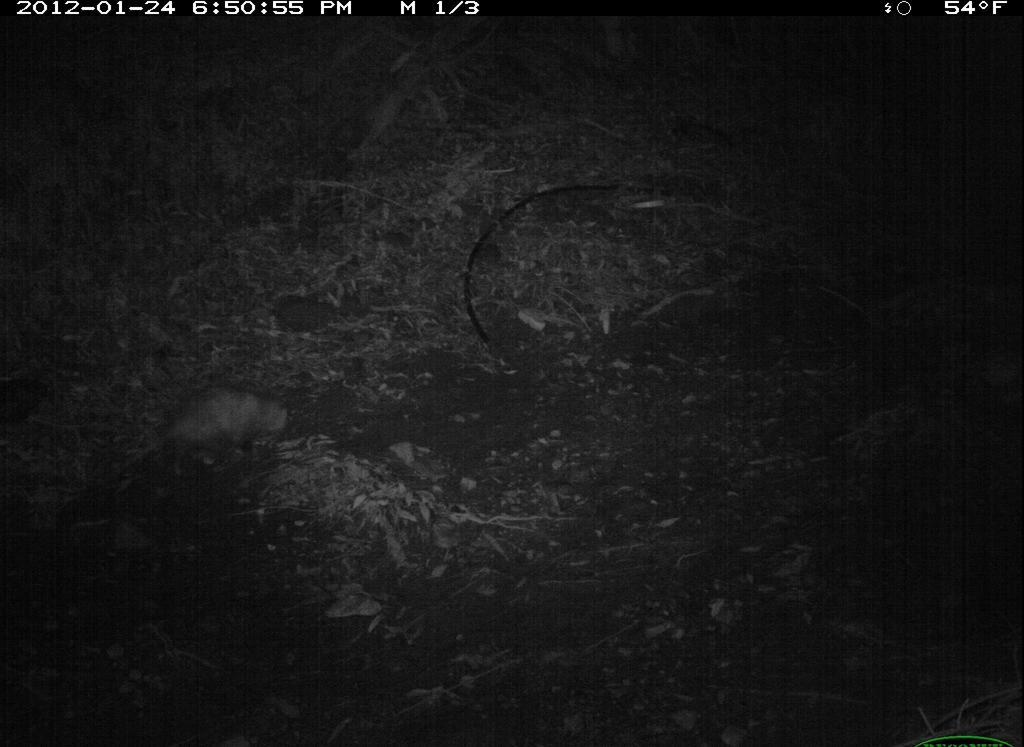opossum: (121, 382, 290, 484)
